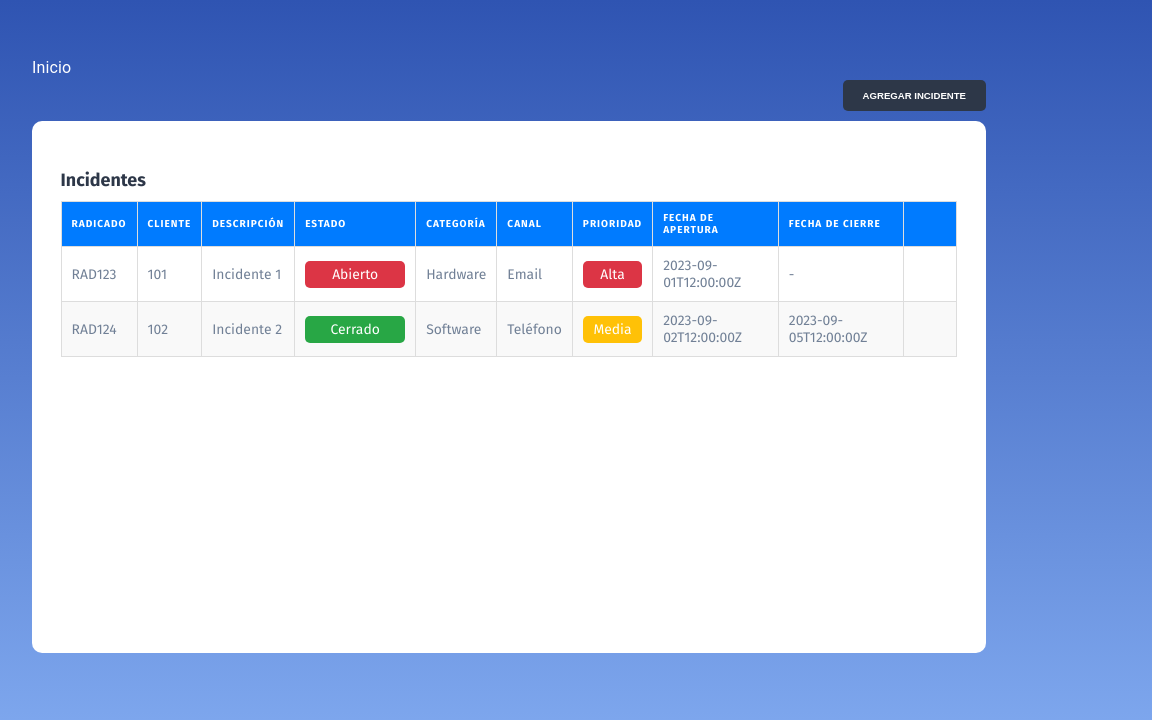
it: IncidentList component › opens and closes the user validation modal when clicking on "AGREGAR INCIDENTE"
What coordinates should you click on to do the following:
click the button "AGREGAR INCIDENTE"
I would click on:
 (914, 96)
Its box is [843,80,986,111].
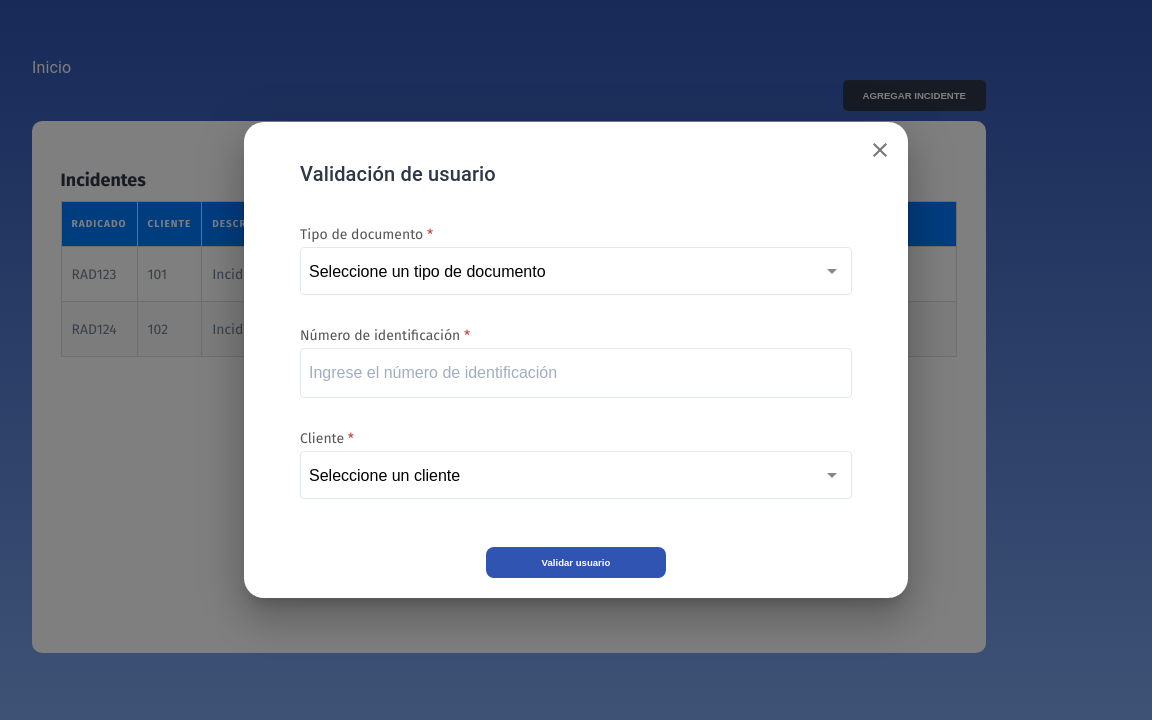
Check: the text "Validación de usuario" is shown, box [300,162,496,186]
What coordinates should you click on to do the following:
click the button named "close"
I would click on:
 (880, 150)
Its box is [860,130,900,170].
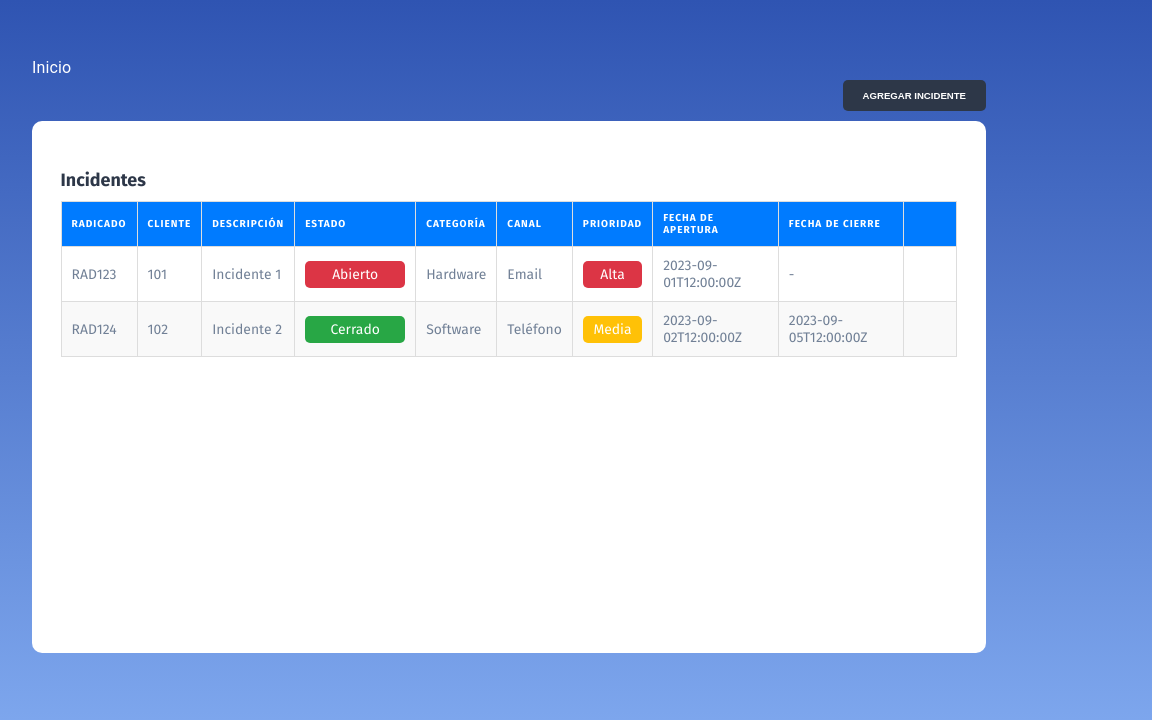
Check: the text "Validación de usuario" is gone
